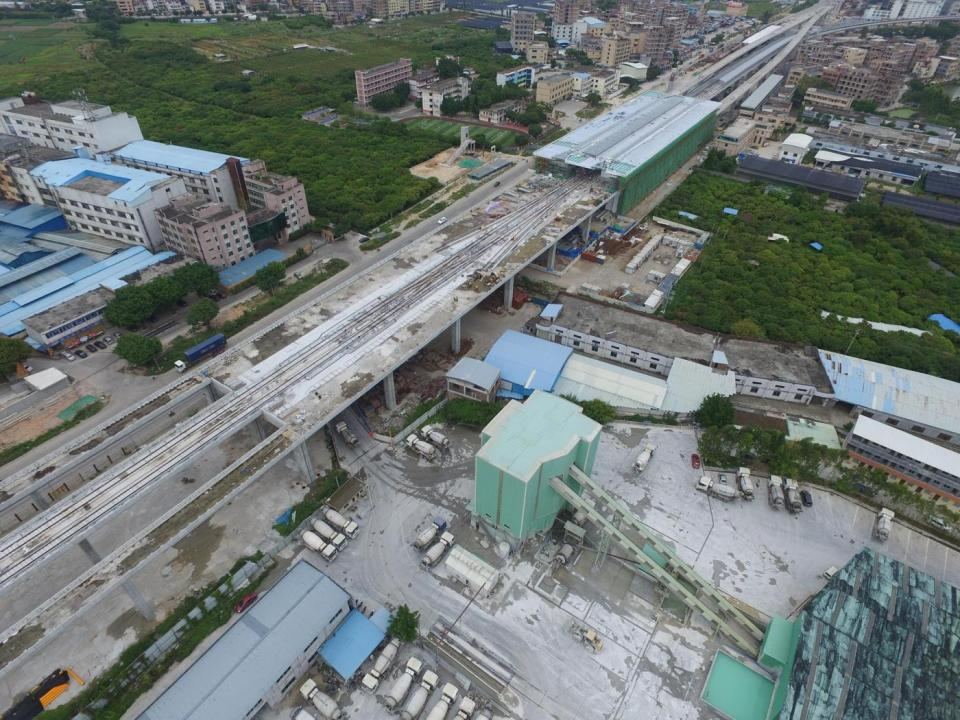car: (234, 591, 258, 614), (927, 513, 953, 534), (854, 481, 874, 498), (760, 452, 779, 465), (800, 490, 813, 507), (739, 450, 757, 461), (690, 452, 700, 469), (717, 470, 728, 485), (18, 364, 33, 373), (103, 335, 115, 345), (178, 297, 190, 307), (126, 322, 138, 332), (95, 340, 106, 350), (216, 290, 228, 299), (357, 236, 371, 243), (75, 350, 87, 358), (208, 294, 221, 301), (147, 314, 157, 323), (208, 284, 218, 293), (86, 344, 97, 352), (114, 332, 123, 340), (437, 216, 446, 224), (293, 272, 302, 278), (750, 144, 759, 150), (493, 179, 500, 186), (772, 151, 777, 156), (570, 97, 575, 101), (678, 68, 682, 72), (576, 98, 580, 102), (688, 62, 692, 64)
truck: (360, 635, 400, 695), (394, 669, 440, 720), (382, 656, 423, 710), (174, 332, 228, 372), (299, 679, 348, 720), (417, 681, 460, 720), (308, 516, 349, 553), (319, 504, 360, 540), (297, 527, 338, 562), (693, 476, 744, 504), (420, 530, 454, 570), (411, 516, 448, 551), (627, 442, 659, 472), (781, 476, 803, 516), (405, 433, 436, 461), (419, 424, 450, 452), (872, 505, 896, 541), (733, 466, 754, 502), (334, 420, 360, 448), (447, 695, 475, 720), (767, 474, 784, 510), (612, 84, 618, 92), (670, 72, 675, 81), (699, 54, 705, 60), (718, 44, 724, 50), (710, 47, 713, 52)
van: (288, 703, 319, 720), (59, 351, 76, 362), (746, 149, 754, 153)
